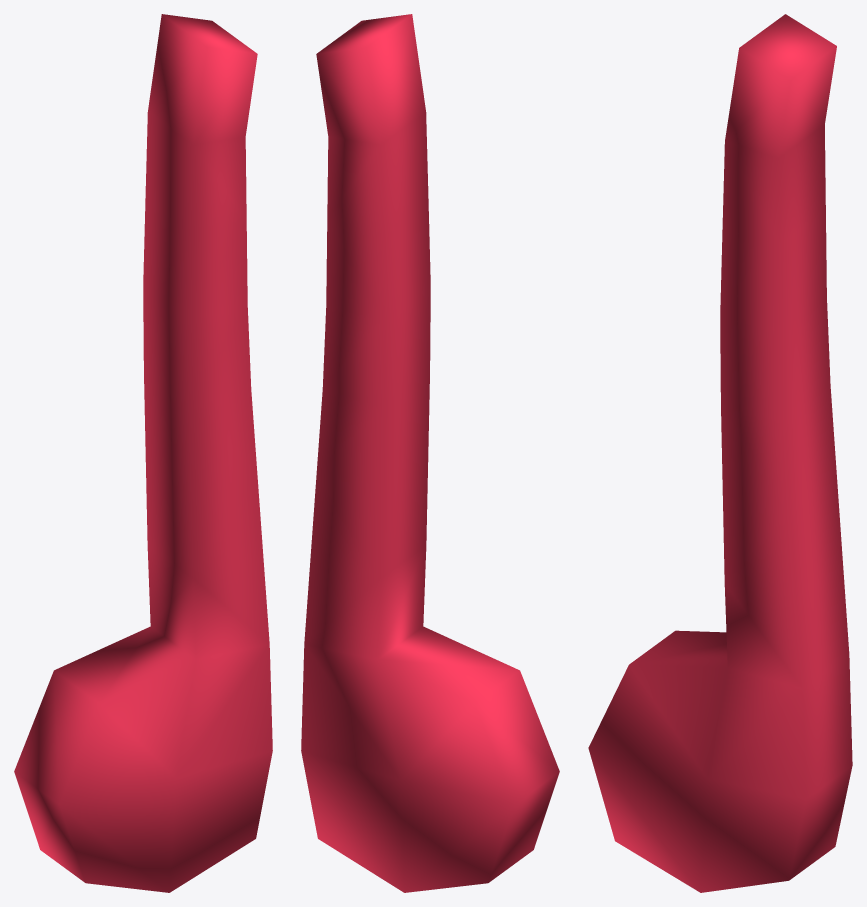
The model's file is Key_04.fbx.
The picture shows the model from 3 angles, left to right: view 1: azimuth 30°, elevation 25°; view 2: azimuth 150°, elevation 25°; view 3: azimuth 330°, elevation 25°; orthographic projection. The views are drawn at different scales.
Visible parts, largest first — view 1: Key_04; view 2: Key_04; view 3: Key_04.
Part boxes in pixels (x1,y1,x2,y2): Key_04: [14, 14, 272, 892]; Key_04: [301, 14, 559, 892]; Key_04: [588, 14, 852, 892].
Bounding box in the file's own units: 31.35 × 118 × 11.56.
